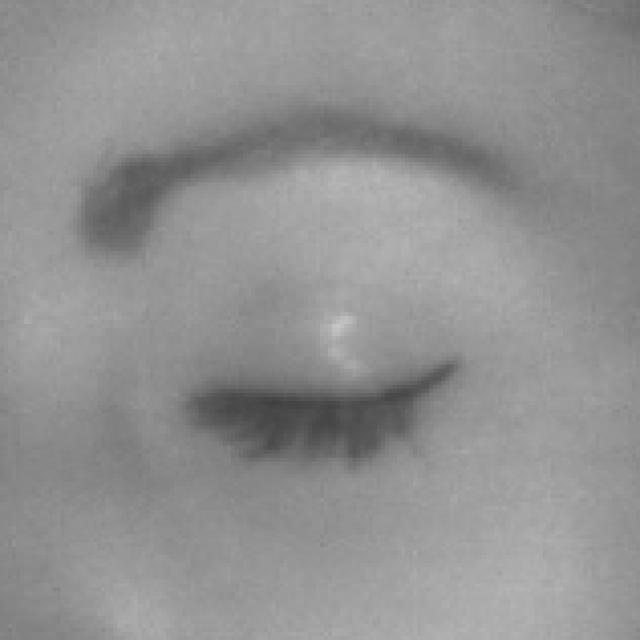Eyeclosed: (190, 286, 468, 527)
